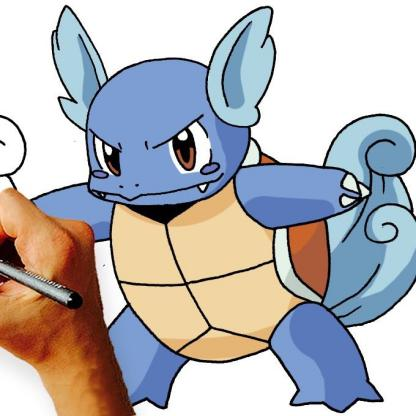Wartortle: (83, 11, 416, 416)
